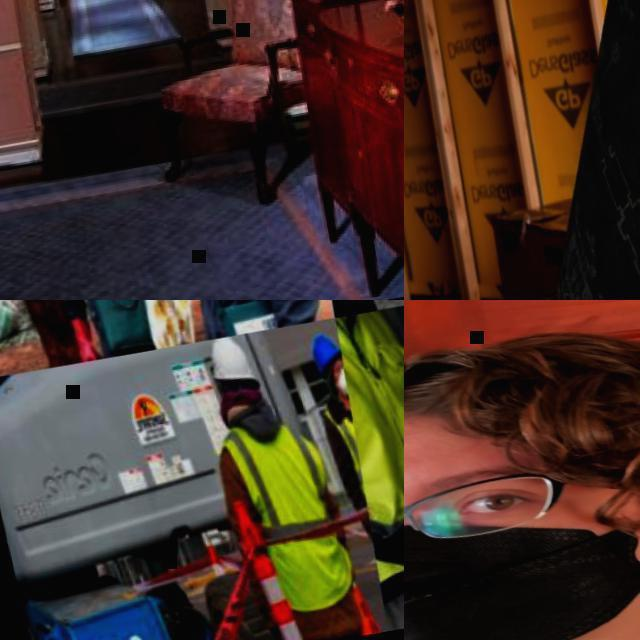helmet: (207, 329, 262, 392), (311, 332, 344, 376)
mask: (404, 477, 640, 640), (334, 370, 348, 398)
no_helmet: (404, 304, 640, 486)
no_vest: (34, 300, 157, 365)
person: (404, 300, 640, 640), (199, 319, 374, 640), (338, 300, 404, 630), (306, 330, 375, 542), (13, 300, 193, 366)
safety_cone: (252, 546, 311, 640)
vest: (214, 410, 364, 621), (335, 300, 404, 585)
